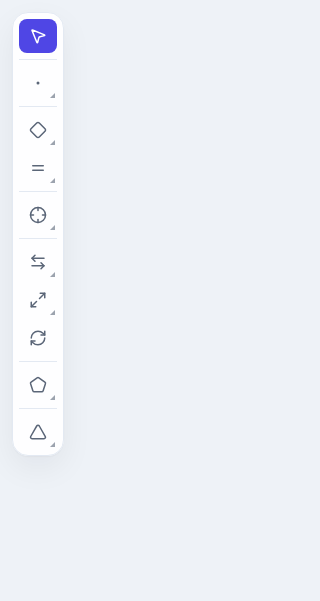
Test case: ConstructionToolbar › groups the five regular polyhedra under a single flyout button
The image size is (320, 601).
Expected: the button "Tetrahedron" is not shown
Expected: the button "Cube" is not shown
Click the button named "Regular polyhedra": (38,432) x1=19 y1=415 x2=57 y2=449
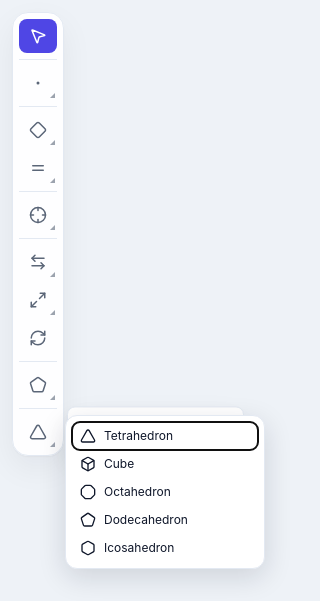
Click the menu item "Icosahedron": (165,548) x1=72 y1=534 x2=258 y2=562
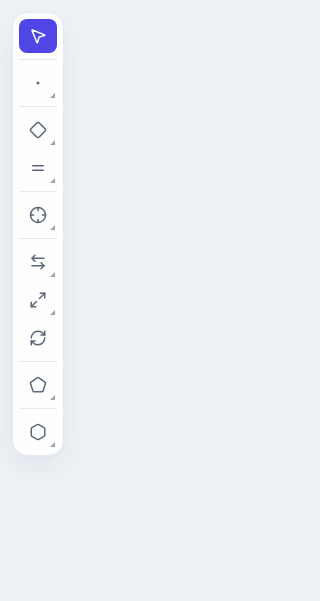
Now the menu is gone
